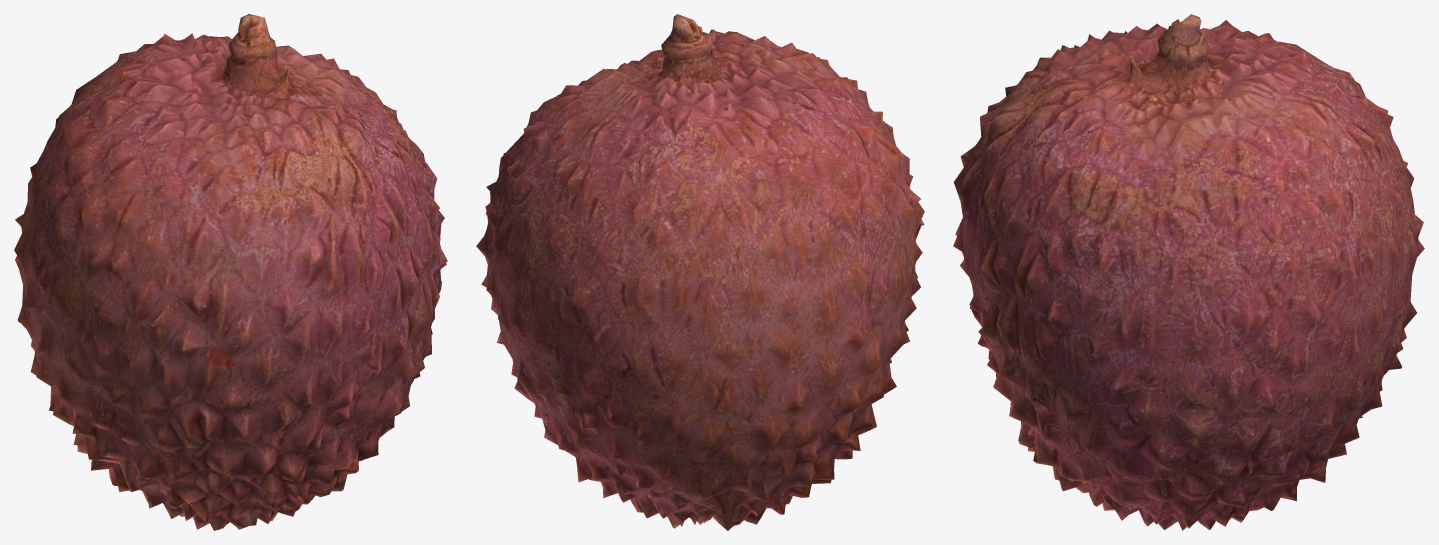
File: food_lychee_01_1k.gltf
The picture shows the model from 3 angles, left to right: view 1: azimuth 30°, elevation 25°; view 2: azimuth 150°, elevation 25°; view 3: azimuth 270°, elevation 25°; orthographic projection. The views are drawn at different scales.
Visible parts, largest first — view 1: food_lychee_01; view 2: food_lychee_01; view 3: food_lychee_01.
Part boxes in pixels (x1=…): food_lychee_01: x1=14, y1=14, x2=447, y2=530; food_lychee_01: x1=476, y1=14, x2=924, y2=530; food_lychee_01: x1=953, y1=14, x2=1424, y2=530.
Bounding box in the file's own units: 0.0409 × 0.0506 × 0.042.
1 material, 1 textured.
